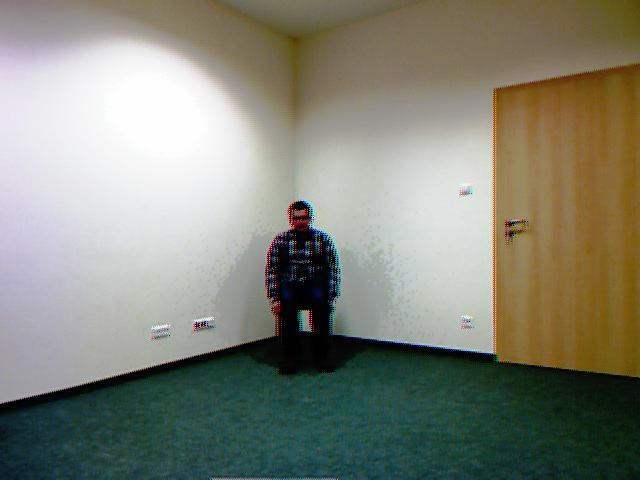sitting: (257, 196, 348, 386)
